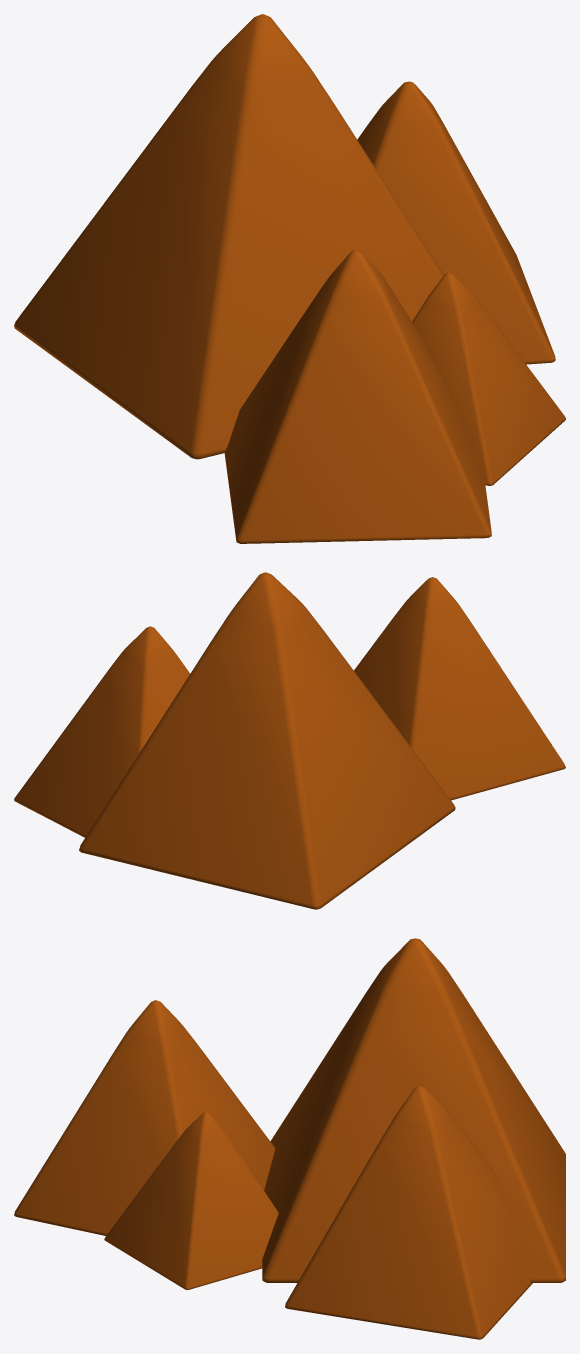
Rendered from bush-27_col.fbx.
3 views of the same model, one above another, from view 1: azimuth 30°, elevation 25°; view 2: azimuth 150°, elevation 25°; view 3: azimuth 270°, elevation 25° (orthographic). The views are drawn at different scales.
Visible parts, largest first — view 1: bush-27.col; view 2: bush-27.col; view 3: bush-27.col.
Part boxes in pixels (x1=…): bush-27.col: x1=14, y1=14, x2=565, y2=543; bush-27.col: x1=14, y1=572, x2=565, y2=909; bush-27.col: x1=14, y1=938, x2=565, y2=1339.
Size of the model in its own units: 0.2099 by 0.138 by 0.2415.
1 material, 1 textured.
